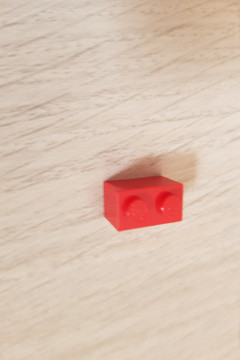1x2 red: (101, 176, 188, 233)
